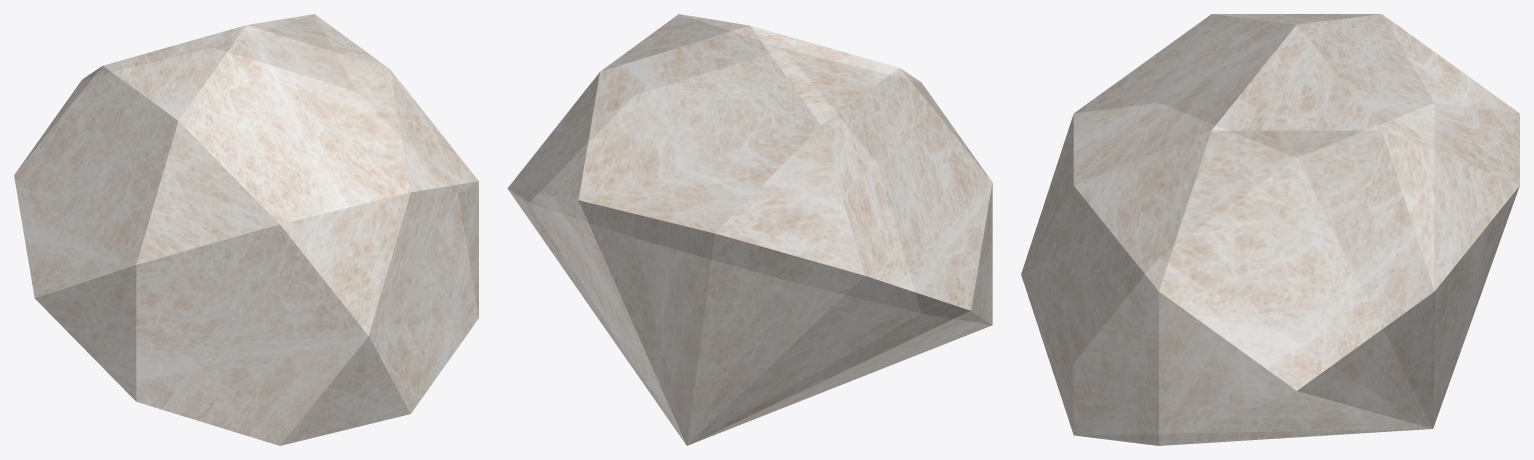
The model's file is PentagonalRotunda.obj.
3 renders of one model, left to right at view 1: azimuth 30°, elevation 25°; view 2: azimuth 150°, elevation 25°; view 3: azimuth 270°, elevation 25°, orthographic. The views are drawn at different scales.
Bounding box in the file's own units: 3.24 × 2.62 × 2.93.
1 material, 1 textured.
